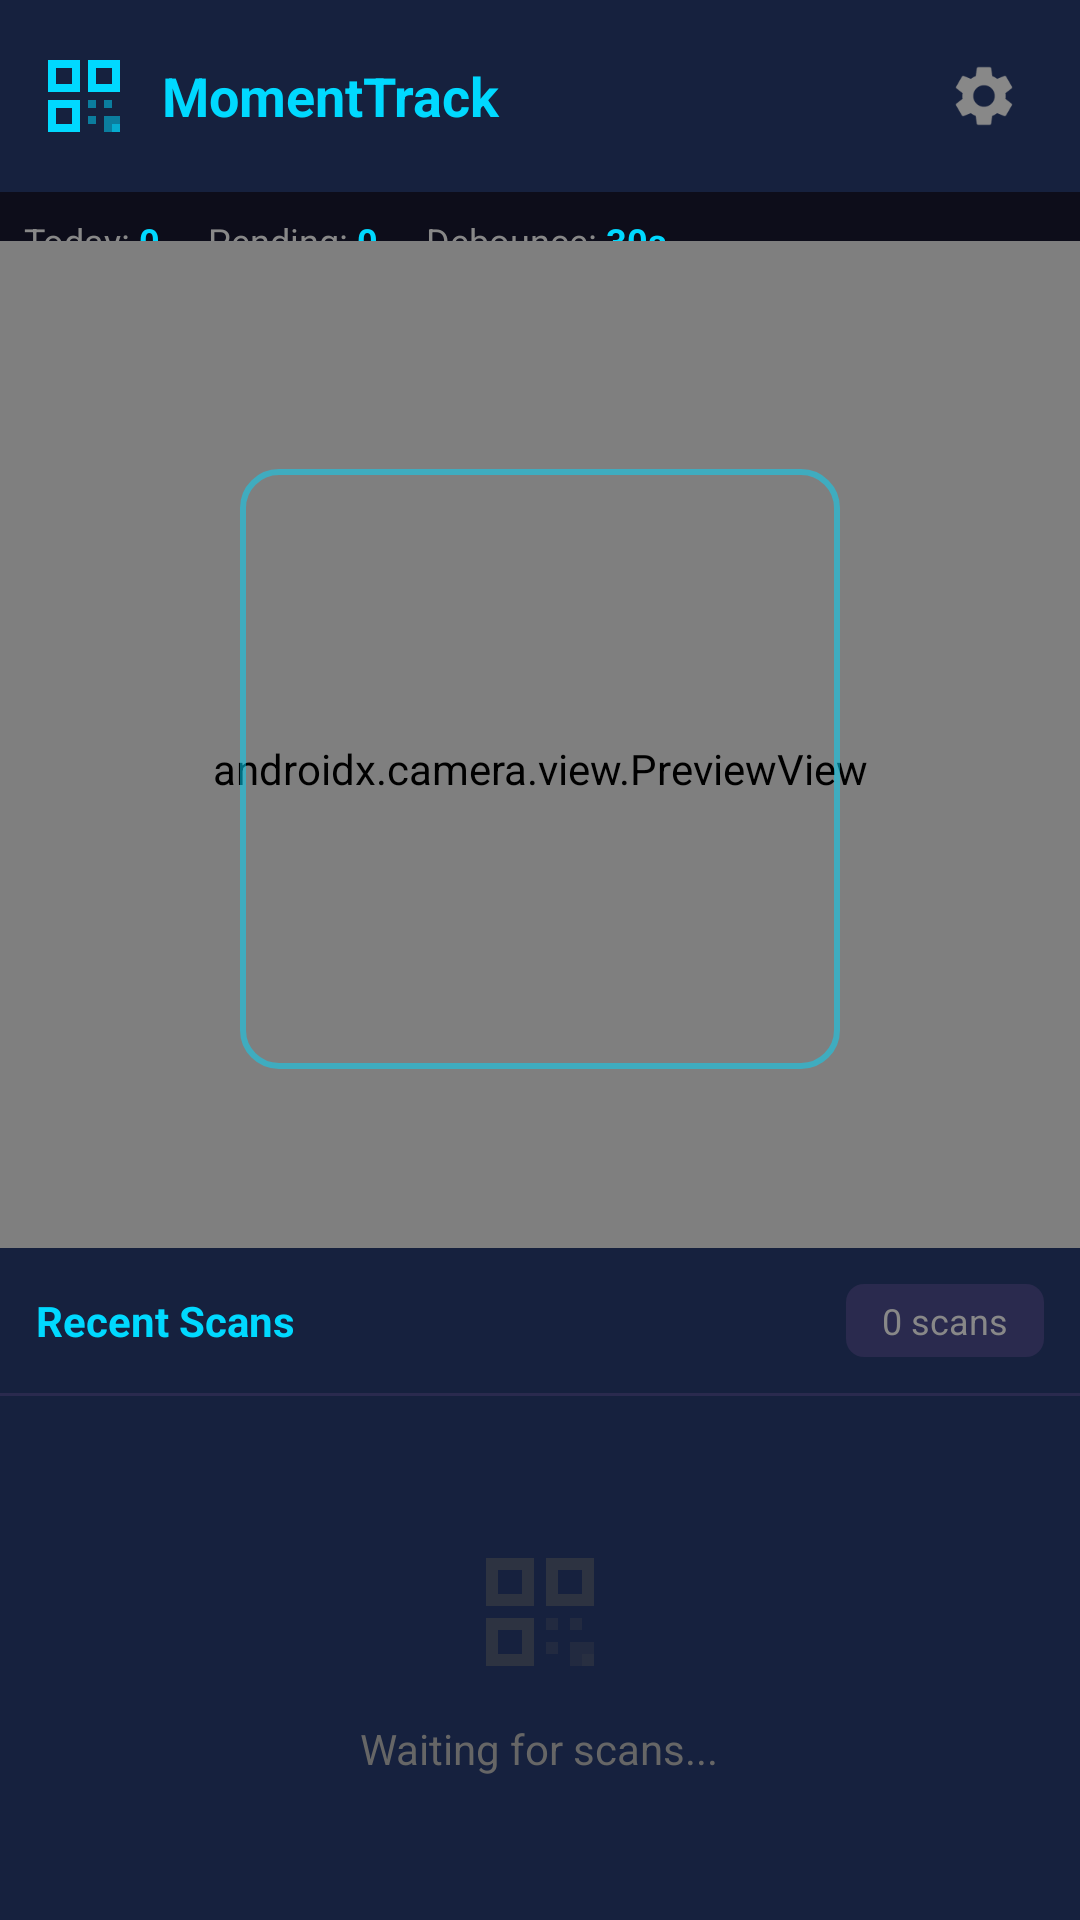

Screen size 1080x1920. Icon name, then its center in pixels as [x,y]:
Settings: [984,96]
